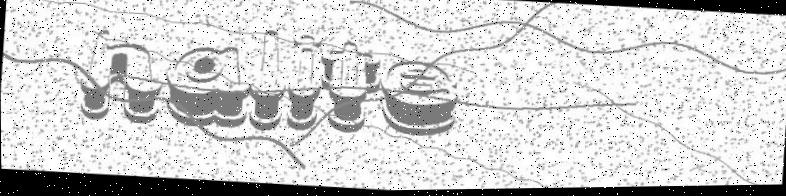a: (162, 34, 252, 133)
e: (376, 57, 465, 143)
h: (72, 23, 170, 131)
i: (284, 29, 327, 136)
l: (247, 25, 291, 131)
t: (317, 39, 384, 136)
